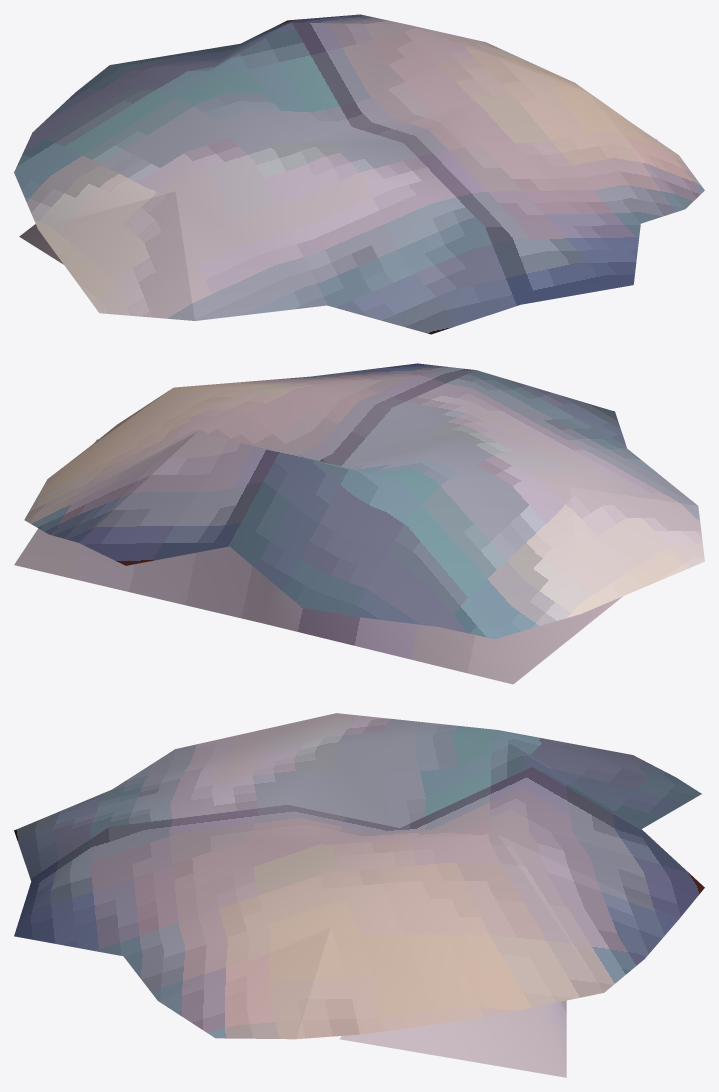
Rendered from fg_rafflesia_x.dae.
3 renders of one model, top to bottom at view 1: azimuth 30°, elevation 25°; view 2: azimuth 150°, elevation 25°; view 3: azimuth 270°, elevation 25°, orthographic. The views are drawn at different scales.
Parts seen in each view (by area): view 1: fg_rafflesia_x; view 2: fg_rafflesia_x; view 3: fg_rafflesia_x.
Part boxes in pixels (left/top/right/bottom): fg_rafflesia_x: left=14, top=14, right=704, bottom=334; fg_rafflesia_x: left=14, top=363, right=704, bottom=684; fg_rafflesia_x: left=14, top=713, right=704, bottom=1077.
Bounding box in the file's own units: 39.47 × 10.57 × 37.29.
1 material, 1 textured.
